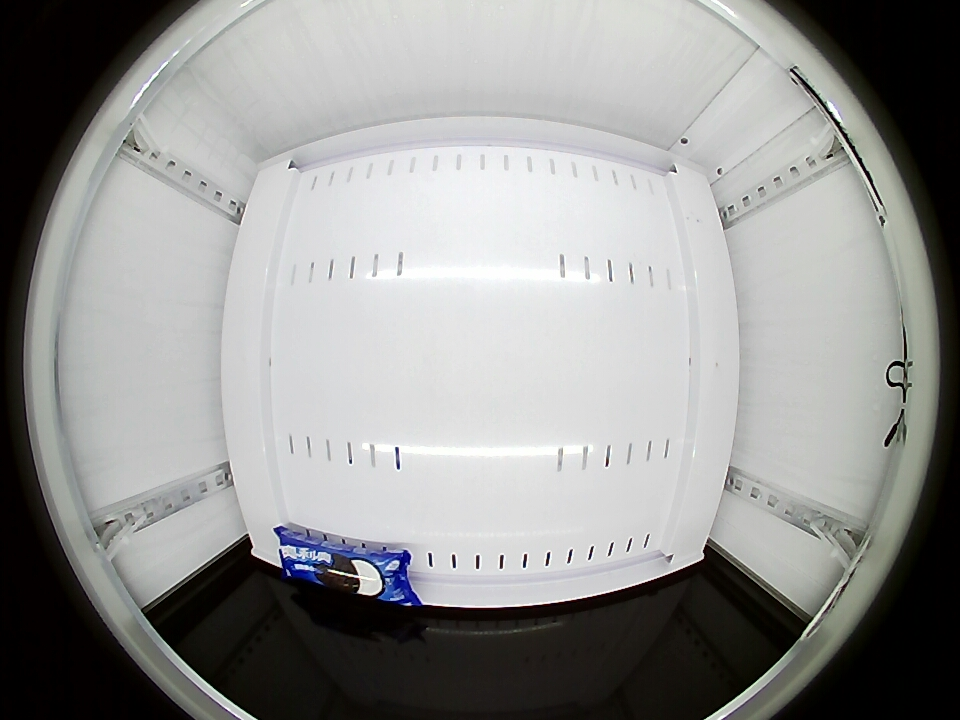aoliao: (279, 534, 409, 603)
